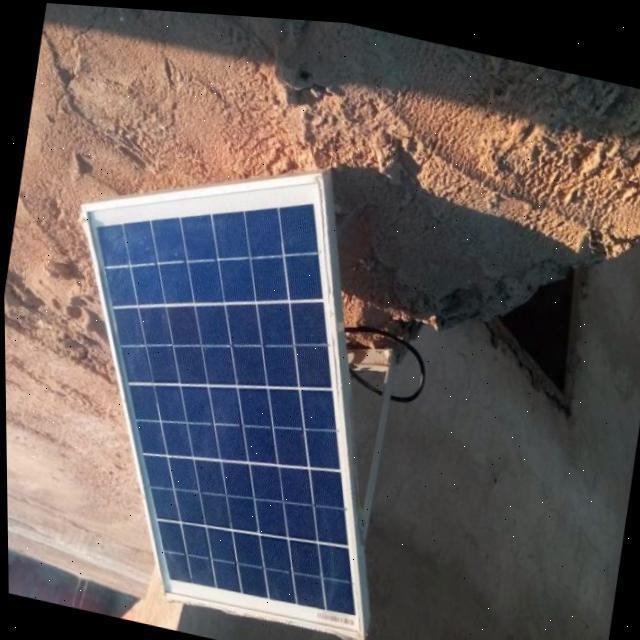Normal Solar Panel: (23, 118, 434, 640)
